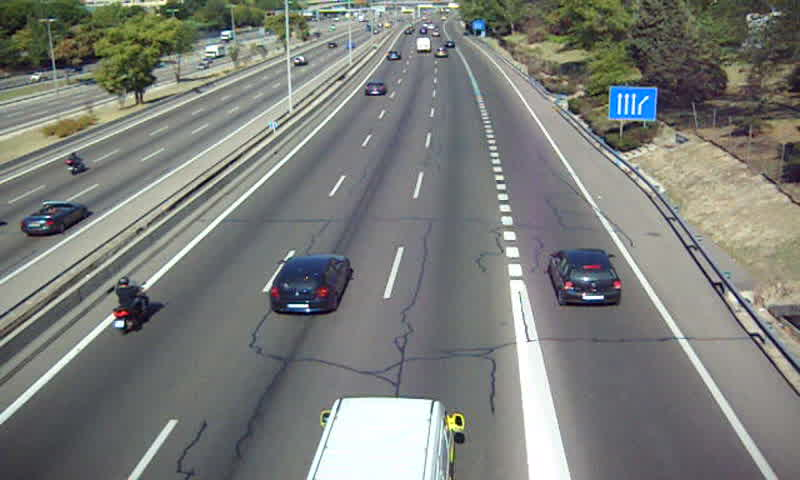car: (269, 252, 352, 317), (549, 249, 622, 305), (364, 81, 388, 96)
motorcycle: (110, 276, 150, 336)
